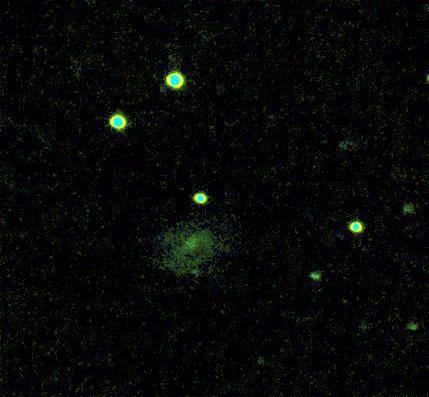star: (183, 261, 213, 291)
